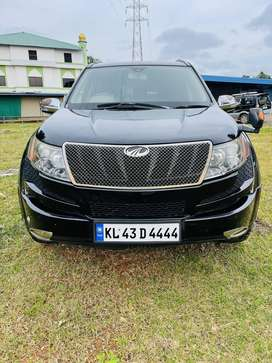KL43D4444: (95, 222, 179, 242)
